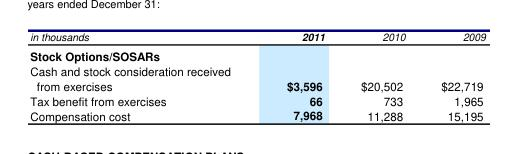table: (29, 28, 484, 123)
table column: (29, 28, 258, 123), (258, 28, 341, 123), (341, 28, 422, 123), (422, 28, 484, 123)
table column header: (29, 28, 484, 45)
table projected row header: (29, 45, 484, 62)
table row: (29, 62, 484, 92), (29, 28, 484, 45), (29, 45, 484, 62), (29, 107, 484, 123), (29, 92, 484, 107)
